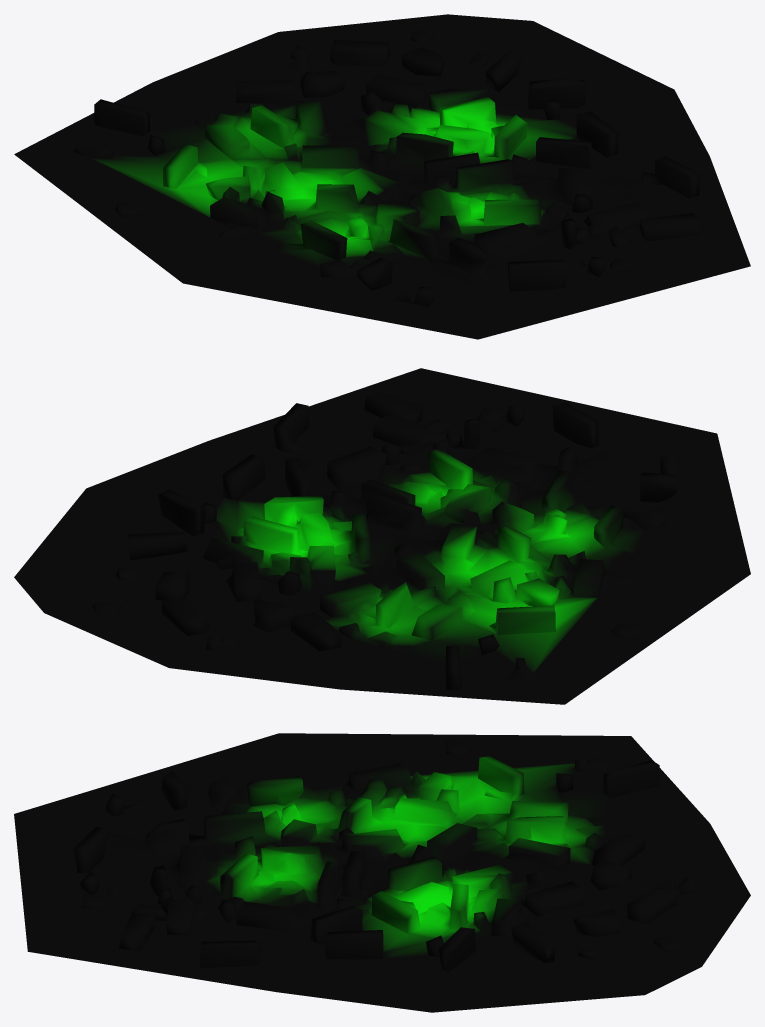
The model's file is DBK_Brick_Rubble_C.fbx.
The picture shows the model from 3 angles, top to bottom: view 1: azimuth 30°, elevation 25°; view 2: azimuth 150°, elevation 25°; view 3: azimuth 270°, elevation 25°; orthographic projection. The views are drawn at different scales.
Parts seen in each view (by area): view 1: DBK_Brick_Rubble_C; view 2: DBK_Brick_Rubble_C; view 3: DBK_Brick_Rubble_C.
Boxes of the visible parts, left/top/right/bottom form: DBK_Brick_Rubble_C: left=14, top=14, right=750, bottom=339; DBK_Brick_Rubble_C: left=14, top=368, right=750, bottom=704; DBK_Brick_Rubble_C: left=14, top=733, right=750, bottom=1012.
Size of the model in its own units: 261 by 11.31 by 291.
